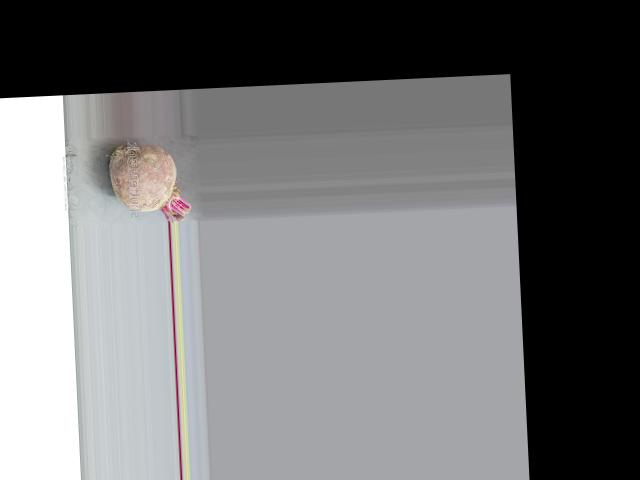beet: (108, 141, 191, 225)
